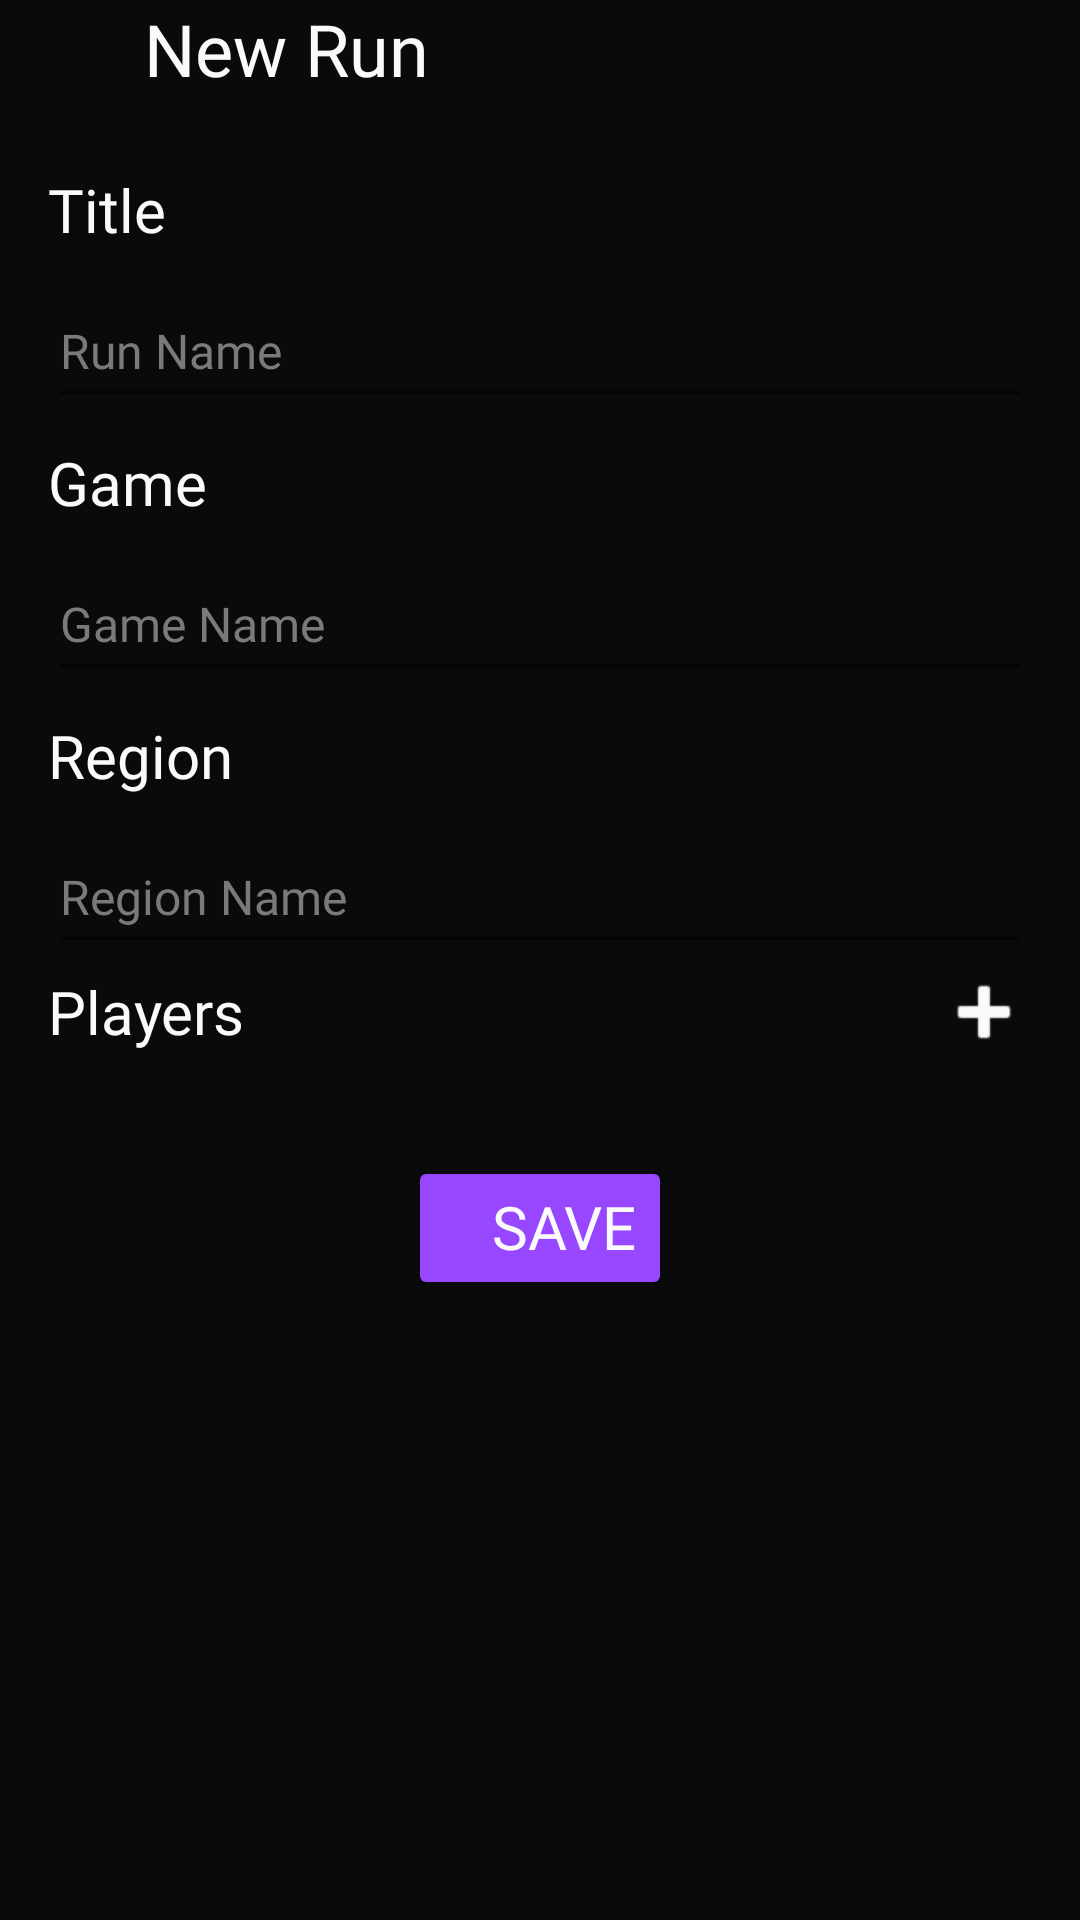

Screen size 1080*1920. Icon name, then its center in pixels as [x,y]:
add: [984,1012]
